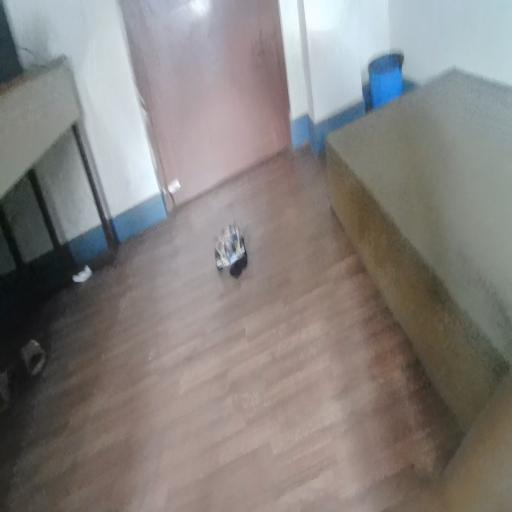car: (220, 207, 252, 293)
